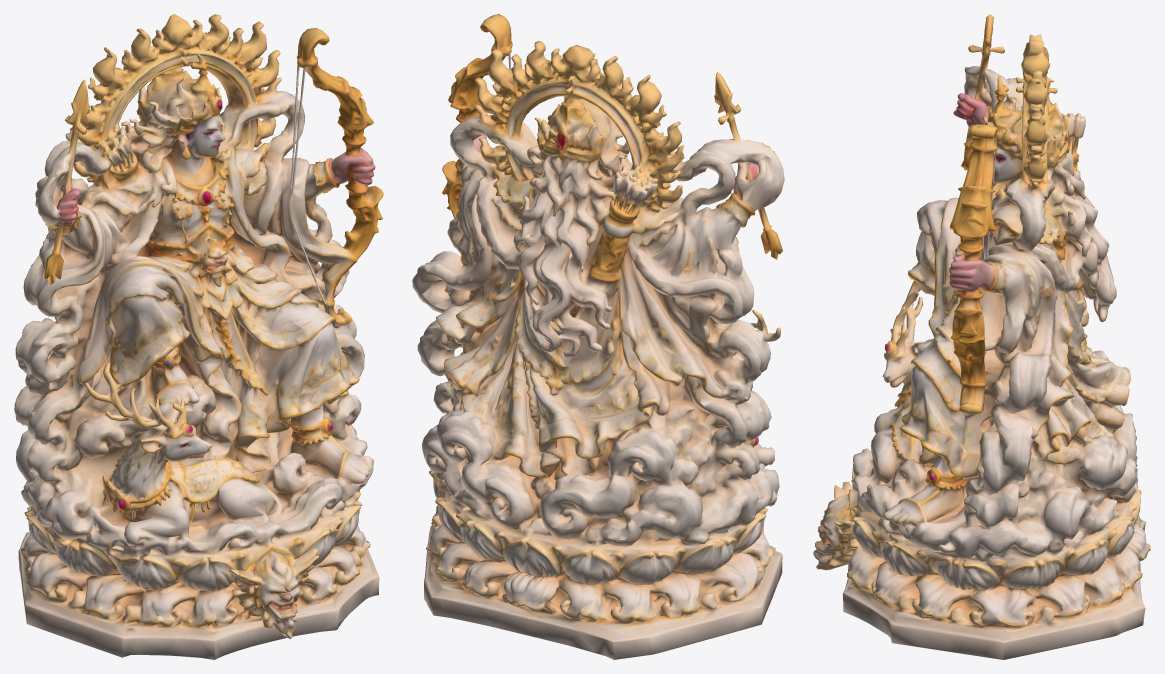
3 views of the same model, side by side, from view 1: azimuth 30°, elevation 25°; view 2: azimuth 150°, elevation 25°; view 3: azimuth 270°, elevation 25° (orthographic). The views are drawn at different scales.
Parts seen in each view (by area): view 1: owner-collection20-05; view 2: owner-collection20-05; view 3: owner-collection20-05.
Boxes of the visible parts, <box> form: owner-collection20-05: <box>14,14,383,659</box>; owner-collection20-05: <box>412,14,784,659</box>; owner-collection20-05: <box>813,14,1150,659</box>.
Bounding box in the file's own units: 0.6424 × 1 × 0.575.
Materials: 1 (1 with a texture image).
